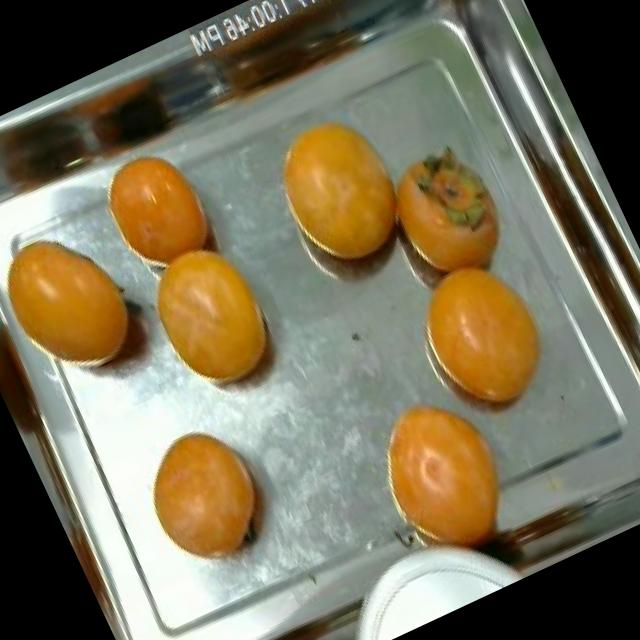Fruit: (338, 363, 540, 585), (123, 215, 308, 426), (394, 236, 577, 442), (249, 92, 433, 294), (120, 401, 299, 594), (0, 198, 166, 406), (368, 125, 530, 307), (78, 126, 243, 304)
